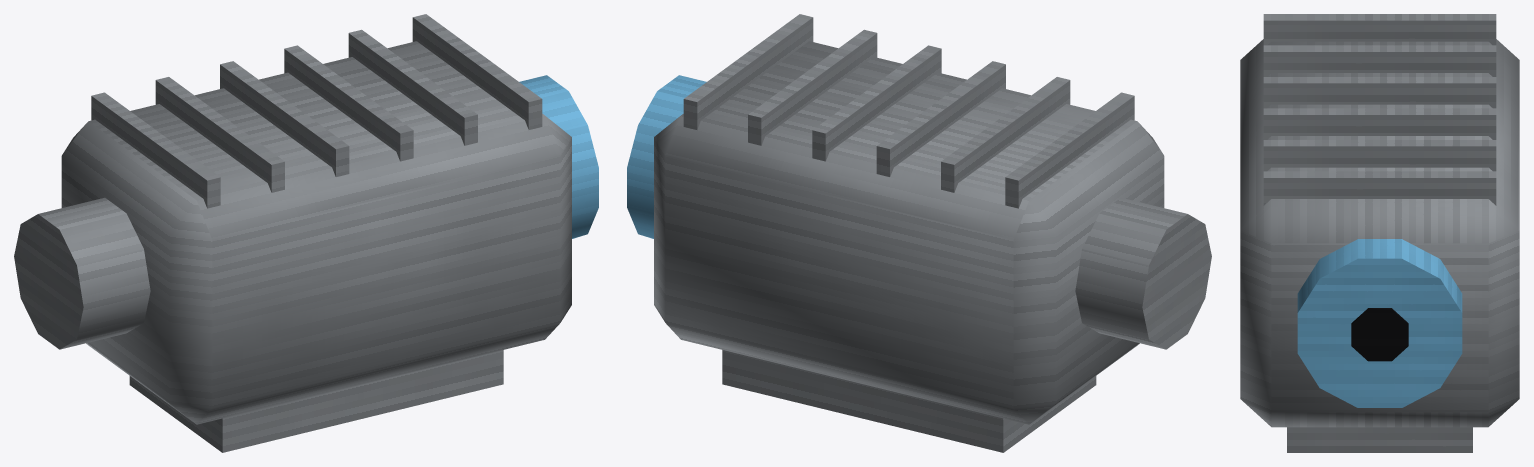
Rendered from compressor_n1.glb.
3 views of the same model, side by side, from view 1: azimuth 30°, elevation 25°; view 2: azimuth 150°, elevation 25°; view 3: azimuth 270°, elevation 25° (orthographic).
Visible parts, largest first — view 1: compressor_n1; view 2: compressor_n1; view 3: compressor_n1.
Boxes of the visible parts, <box> form: compressor_n1: <box>14,14,598,452</box>; compressor_n1: <box>627,14,1211,452</box>; compressor_n1: <box>1240,14,1519,452</box>.
Bounding box in the file's own units: 0.383 × 0.205 × 0.18.
Materials: 1 (1 with a texture image).
